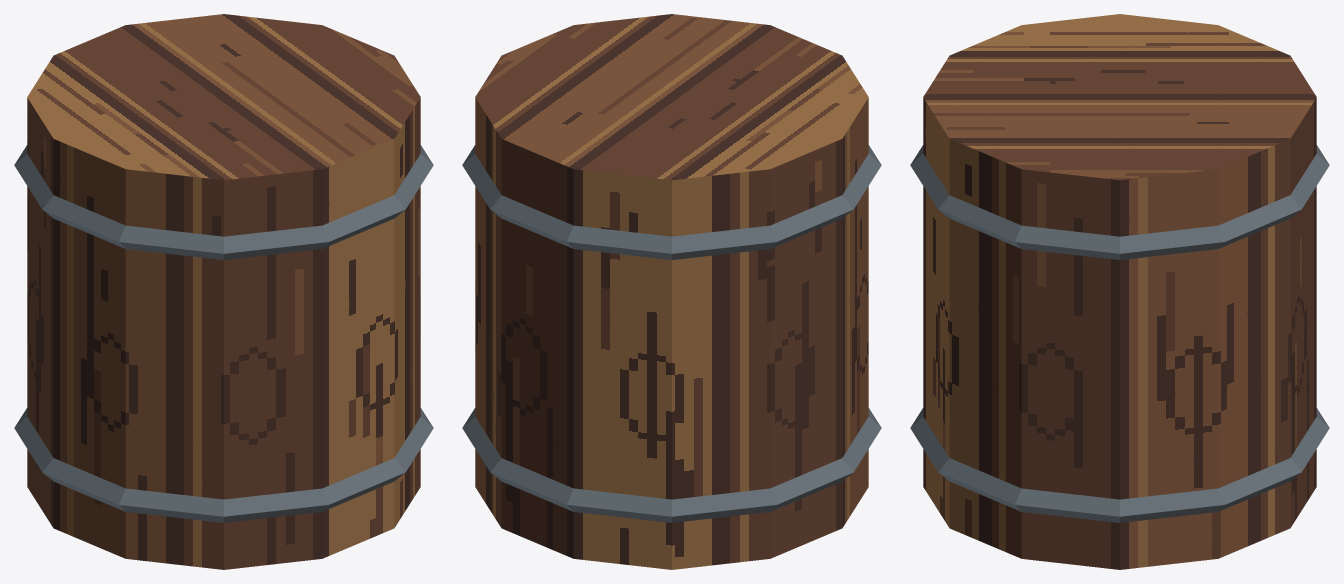
The model's file is barrel.glb.
The picture shows the model from 3 angles, left to right: view 1: azimuth 30°, elevation 25°; view 2: azimuth 150°, elevation 25°; view 3: azimuth 270°, elevation 25°; orthographic projection.
Visible parts, largest first — view 1: barrel_wood, barrel_iron; view 2: barrel_wood, barrel_iron; view 3: barrel_wood, barrel_iron.
Part boxes in pixels (x1,y1,x2,y2): barrel_wood: [27, 14, 420, 569]; barrel_iron: [14, 145, 433, 522]; barrel_wood: [475, 14, 868, 569]; barrel_iron: [462, 145, 881, 522]; barrel_wood: [923, 14, 1316, 569]; barrel_iron: [910, 145, 1329, 522].
Bounding box in the file's own units: 0.81 × 0.83 × 0.81.
Materials: 2 (1 with a texture image).
